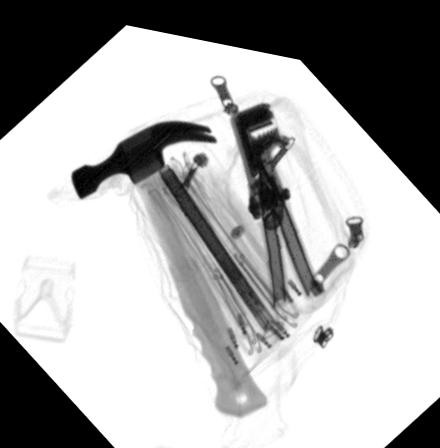Hammer: (69, 112, 267, 409)
Pliers: (228, 87, 324, 295)
